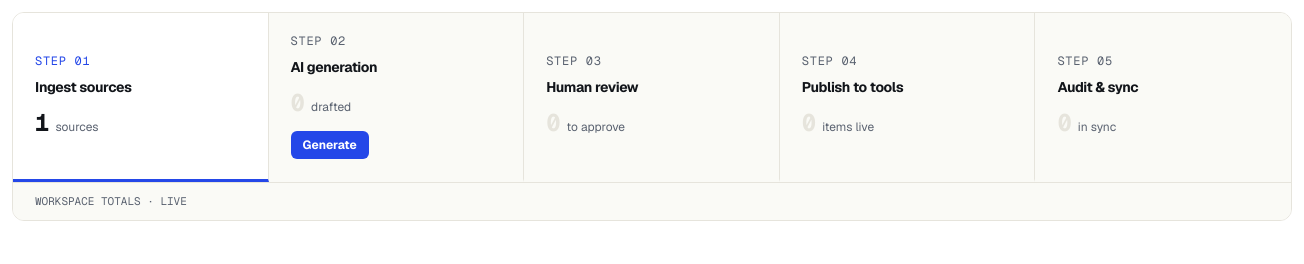
Test: PipelineStepper generate action › shows an error and does not refresh when enqueueing fails
What coordinates should you click on to do the following:
click the button "Generate"
I would click on:
 (330, 145)
Its box is [291,131,369,159].
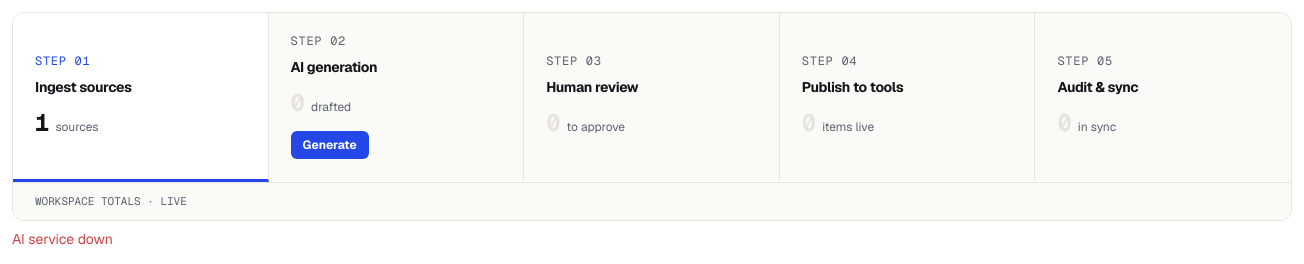
Result: the text "AI service down" is shown at [12,230,113,248]
